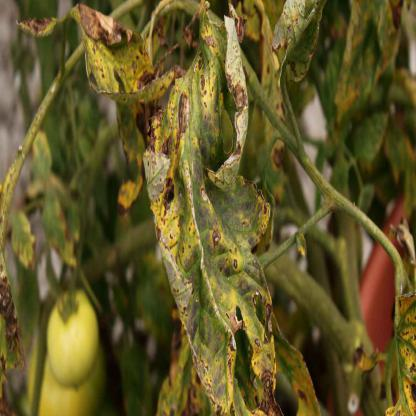tomato septoria leaf spot: (142, 13, 279, 415), (49, 11, 166, 105)
